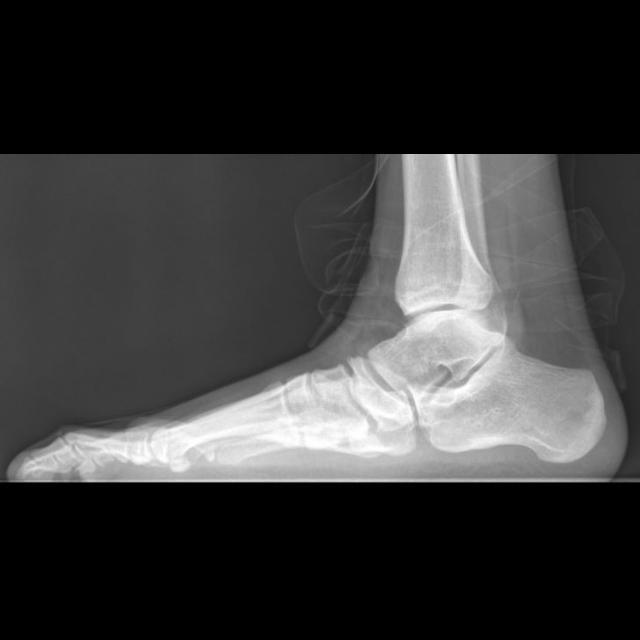a: (413, 341, 607, 462)
b: (347, 355, 411, 427)
c: (149, 381, 305, 461)
